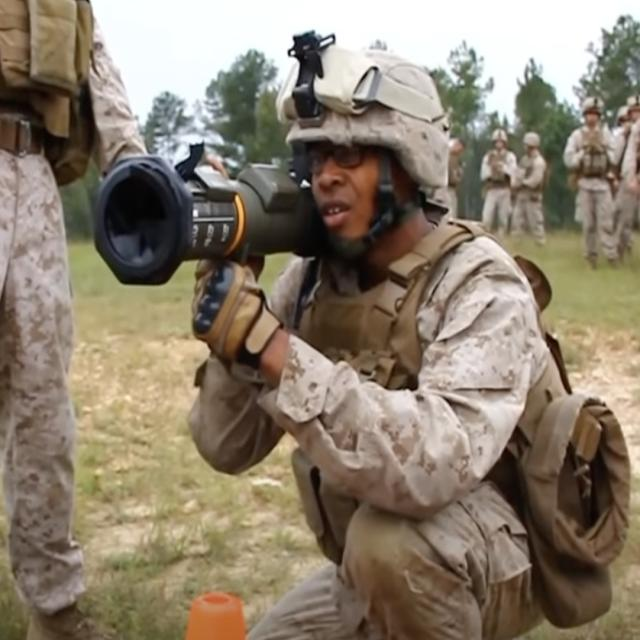bazooka: (75, 131, 338, 311)
